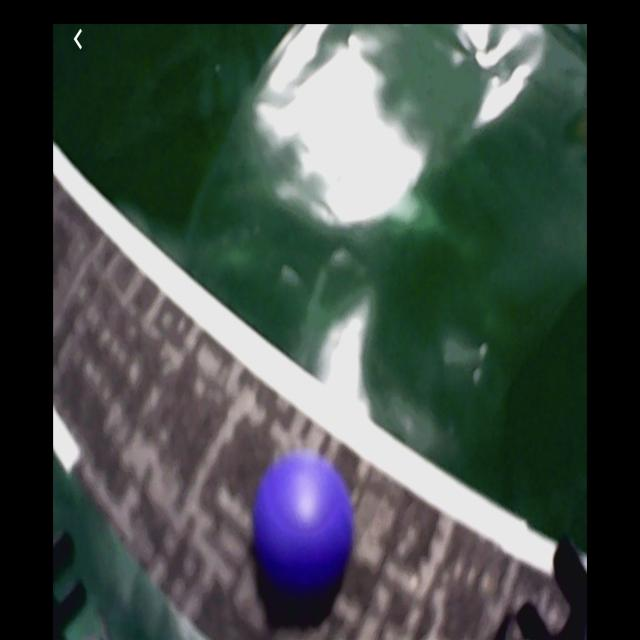ball: (256, 453, 354, 596)
